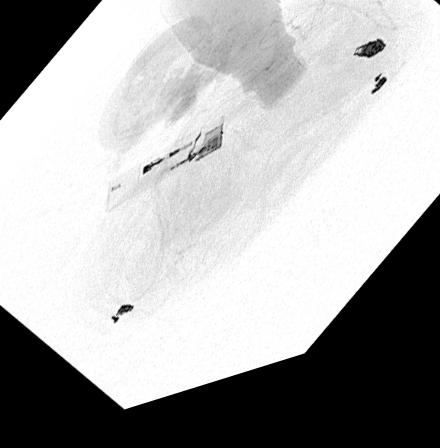Lighter: (104, 127, 223, 220)
